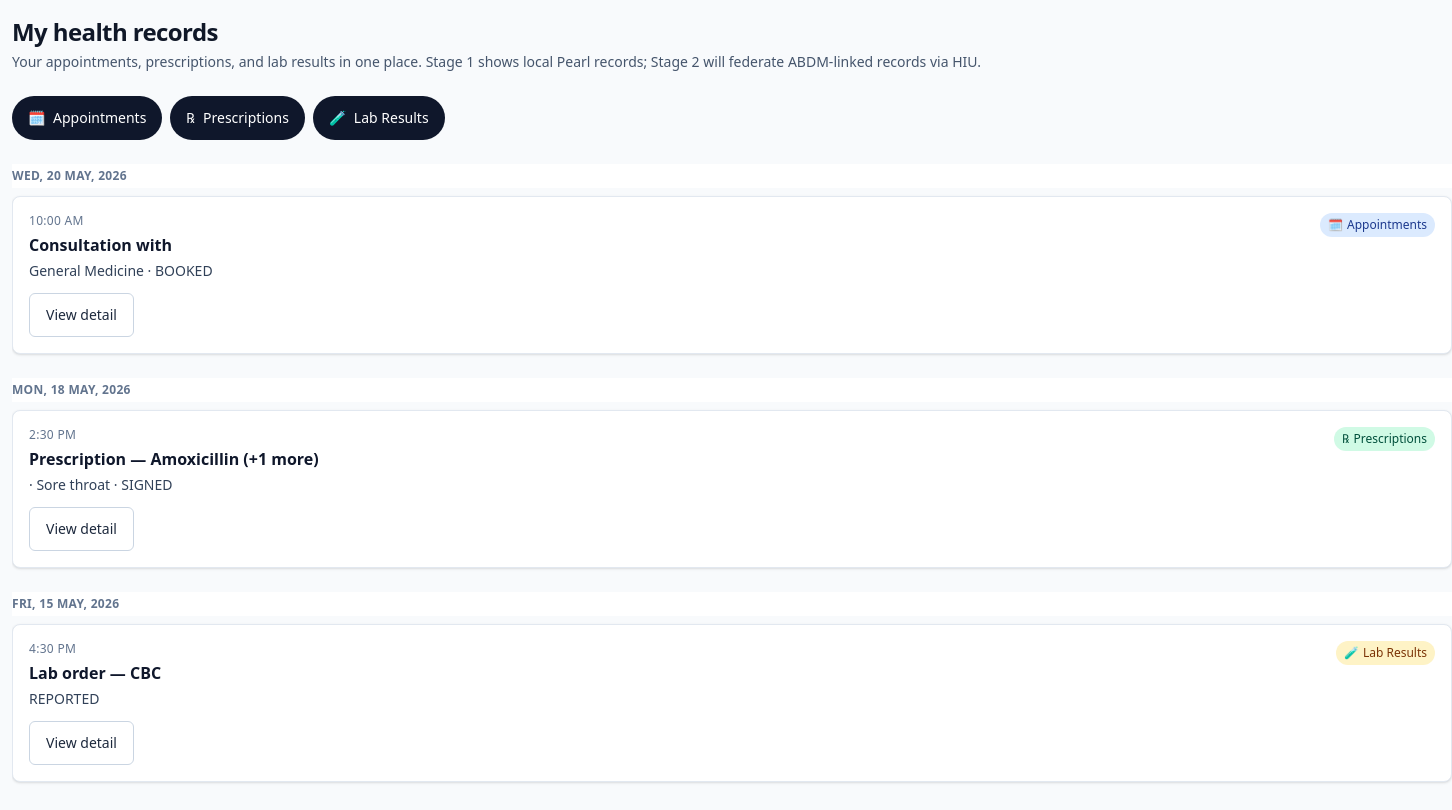
Test: Patient records page — gap #5 piece 3f › toggling all three chips off renders the empty state
Click the button with test id "patient-records-chip-appointment": click(87, 118) [12, 96, 162, 140]
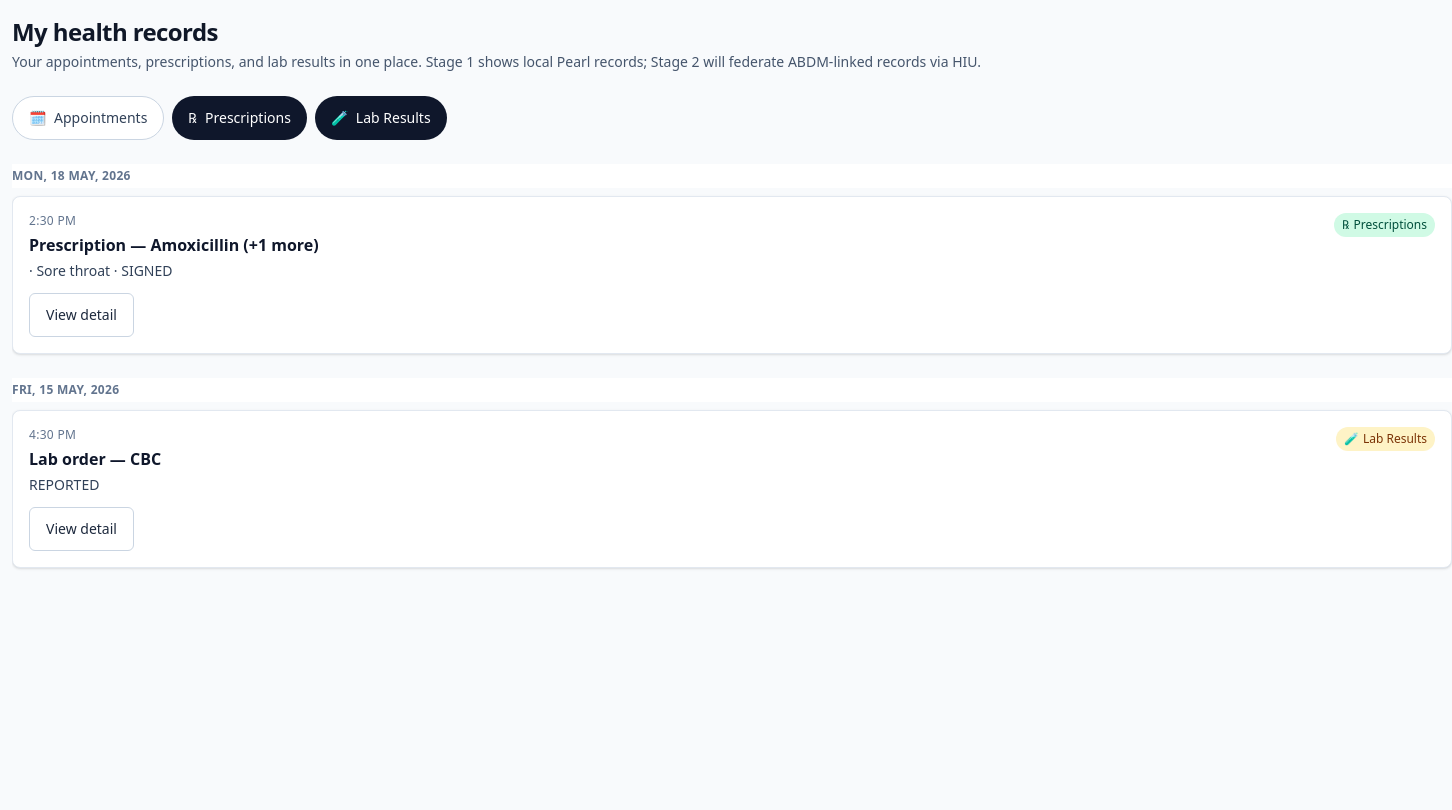
Click the button with test id "patient-records-chip-prescription": click(240, 118) [172, 96, 307, 140]
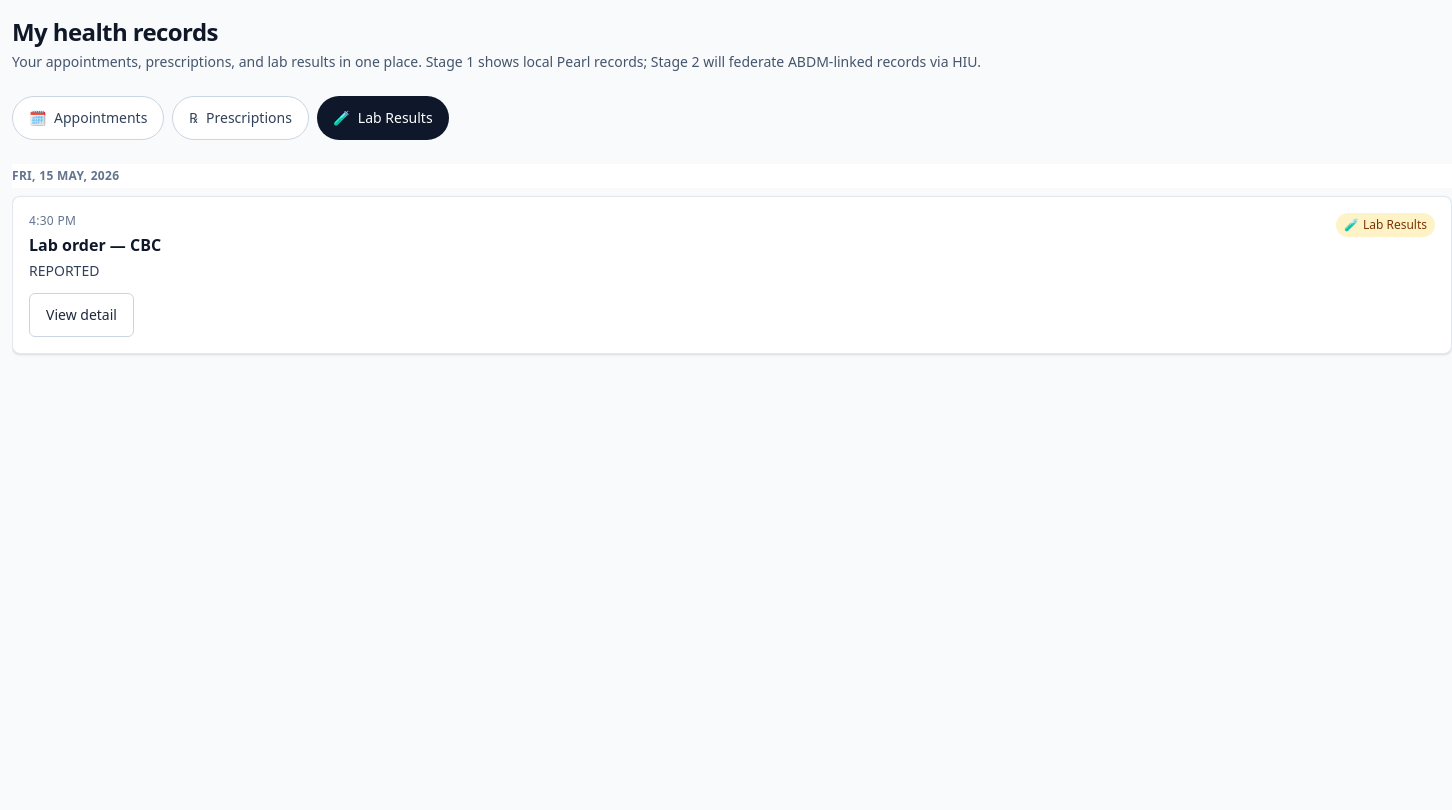
Click the button with test id "patient-records-chip-lab": click(383, 118) [317, 96, 449, 140]
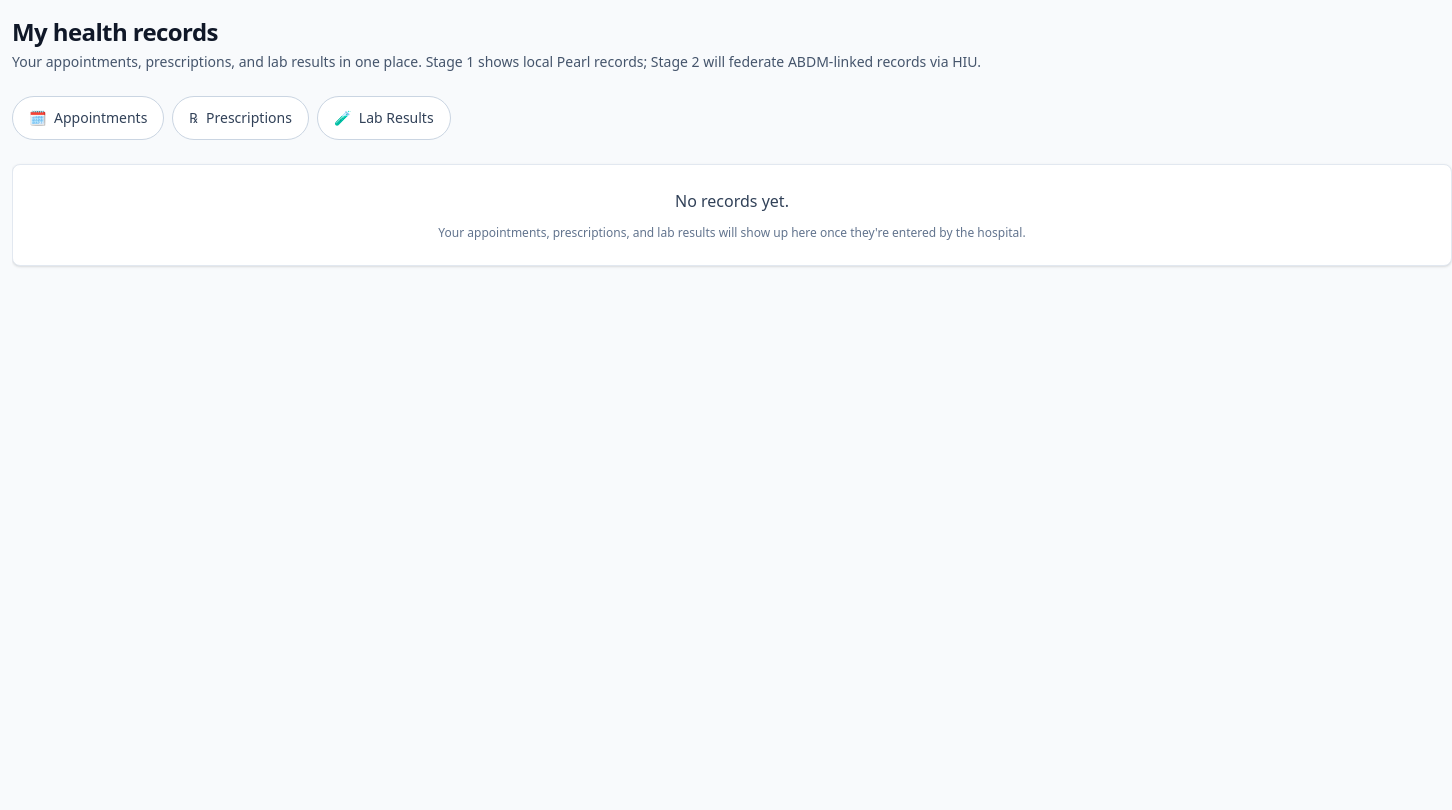
Now the element with test id "patient-records-empty" is shown, box [12, 164, 1451, 266]
